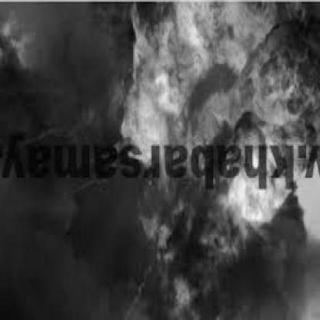Fire: (114, 4, 320, 320)
